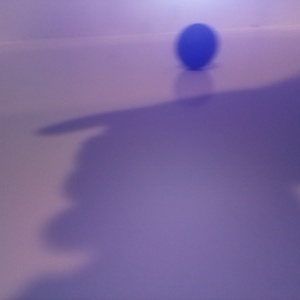dead_ball: (175, 22, 218, 68)
